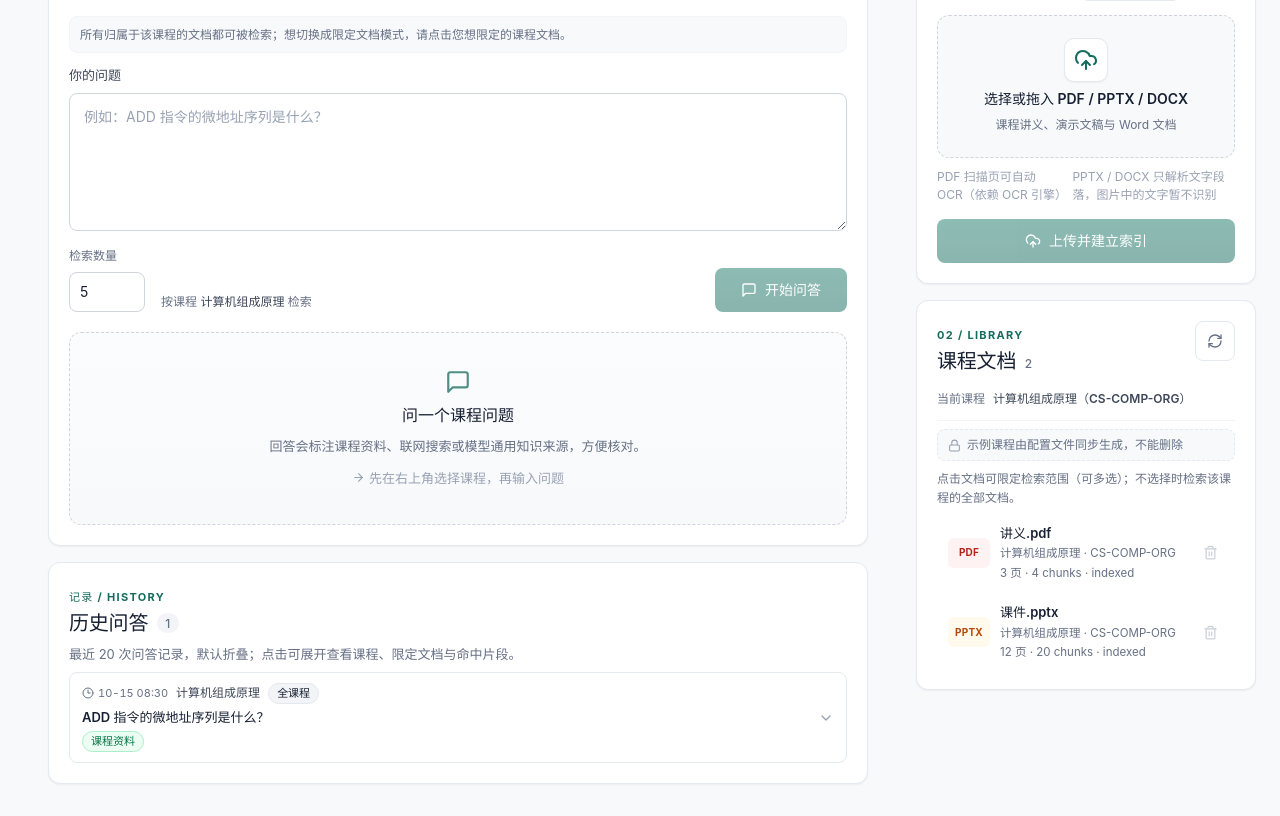
Test: EduRAG 前端工作流 › 展开历史问答：显示完整问题、Markdown 答案、命中片段与 request_id
(page scrolled)
What coordinates should you click on to do the following:
click the button "10-15 08:30 计算机组成原理 全课程 ADD 指令的微地址序列是什么？ 课程资料"
I would click on:
 (133, 693)
Its box is [70,673,846,762].
(page scrolled)
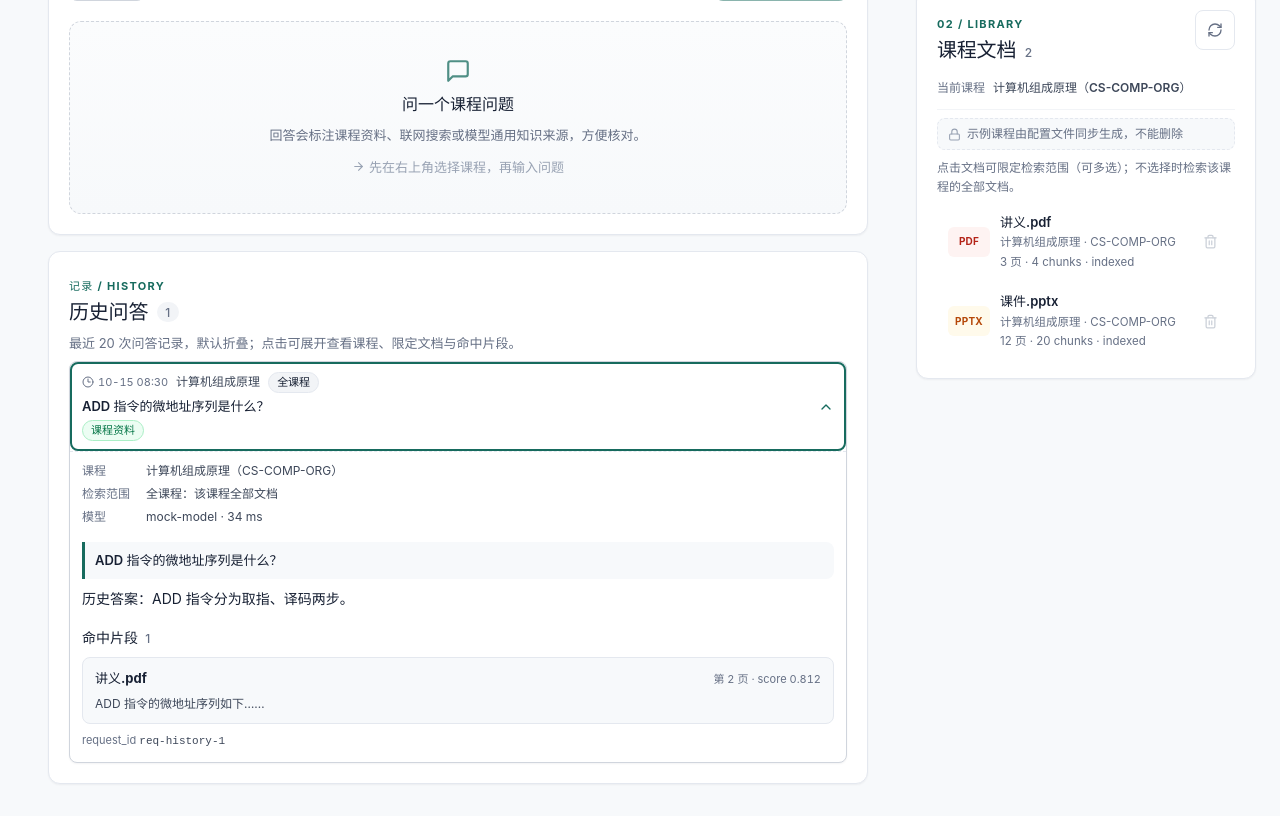
Expected: the button "10-15 08:30 计算机组成原理 全课程 ADD 指令的微地址序列是什么？ 课程资料" is expanded, [70,362,846,451]
Expected: the text "计算机组成原理（CS-COMP-ORG）" below "最近 20 次问答记录，默认折叠；点击可展开查看课程、限定文档与命中片段。" is shown, [146,463,343,478]
Expected: the text "全课程：该课程全部文档" is shown, [146,485,278,504]
